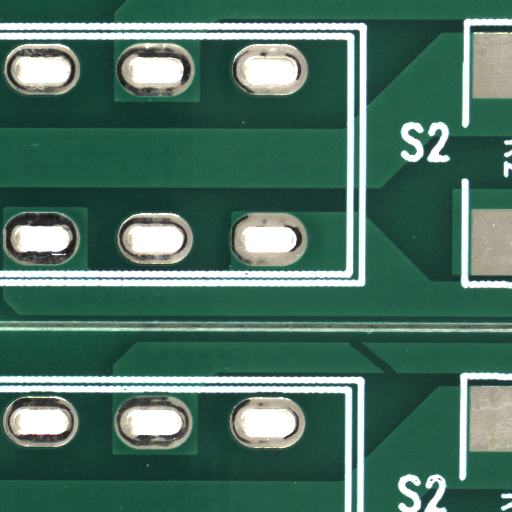Open_circuit: (375, 358, 428, 396)
